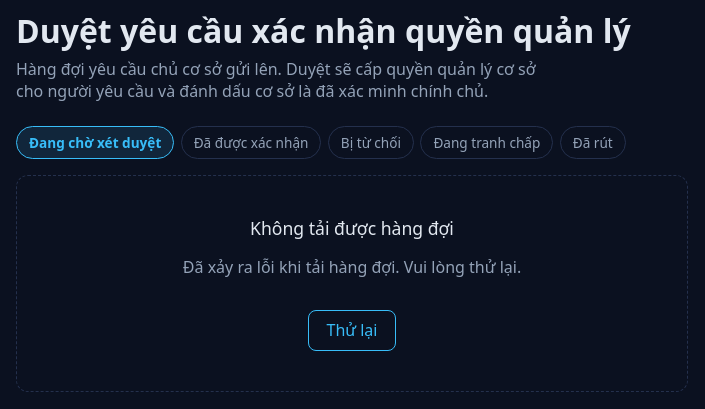
Test: ClaimsReviewView — tải dữ liệu › lỗi 5xx → thông báo chung (không lộ message backend) + Thử lại nạp lại
The width and height of the screenshot is (705, 409).
expect the text "Đã xảy ra lỗi khi tải hàng đợi. Vui lòng thử lại." is shown: met, box [183,256,521,278]
Click the button "Thử lại".
click(352, 330)  # box [308,310,396,351]
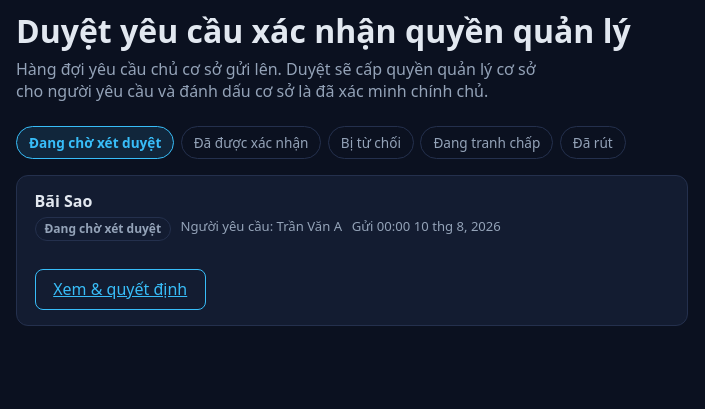
expect the text "Bãi Sao" is shown: met, box [35,190,92,212]
